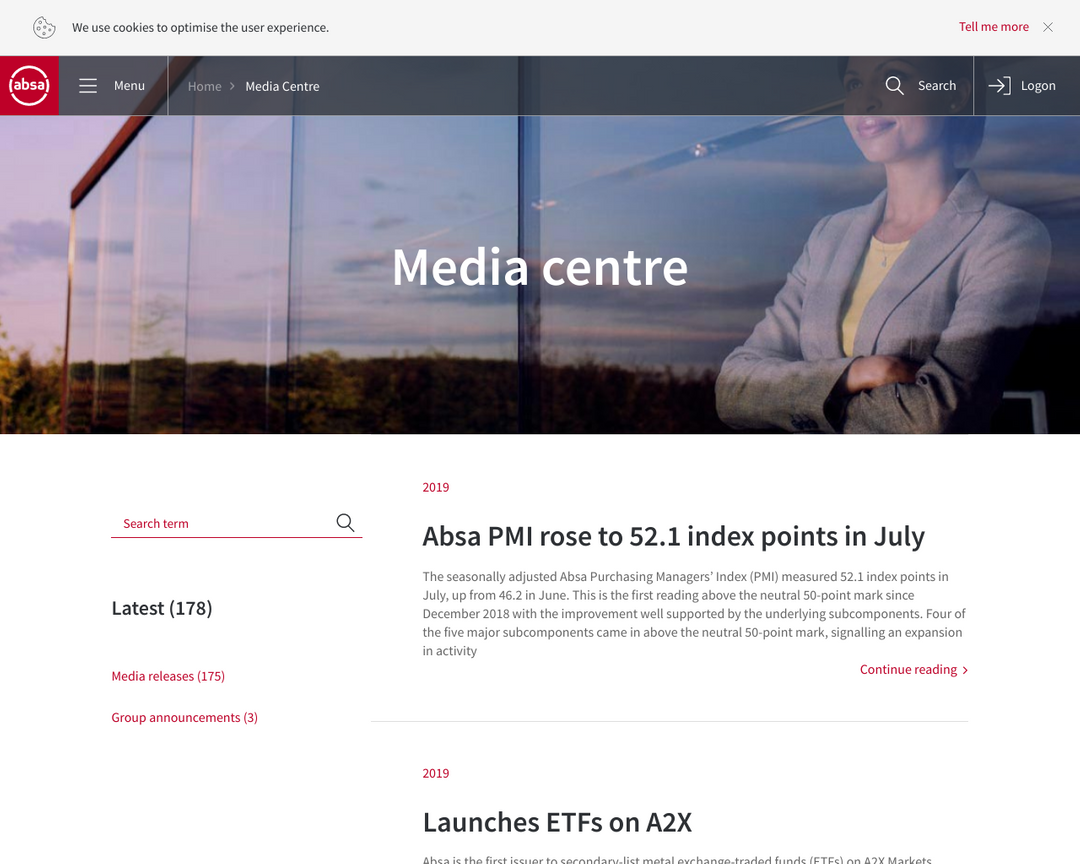ABSA: (4, 64, 52, 110)
